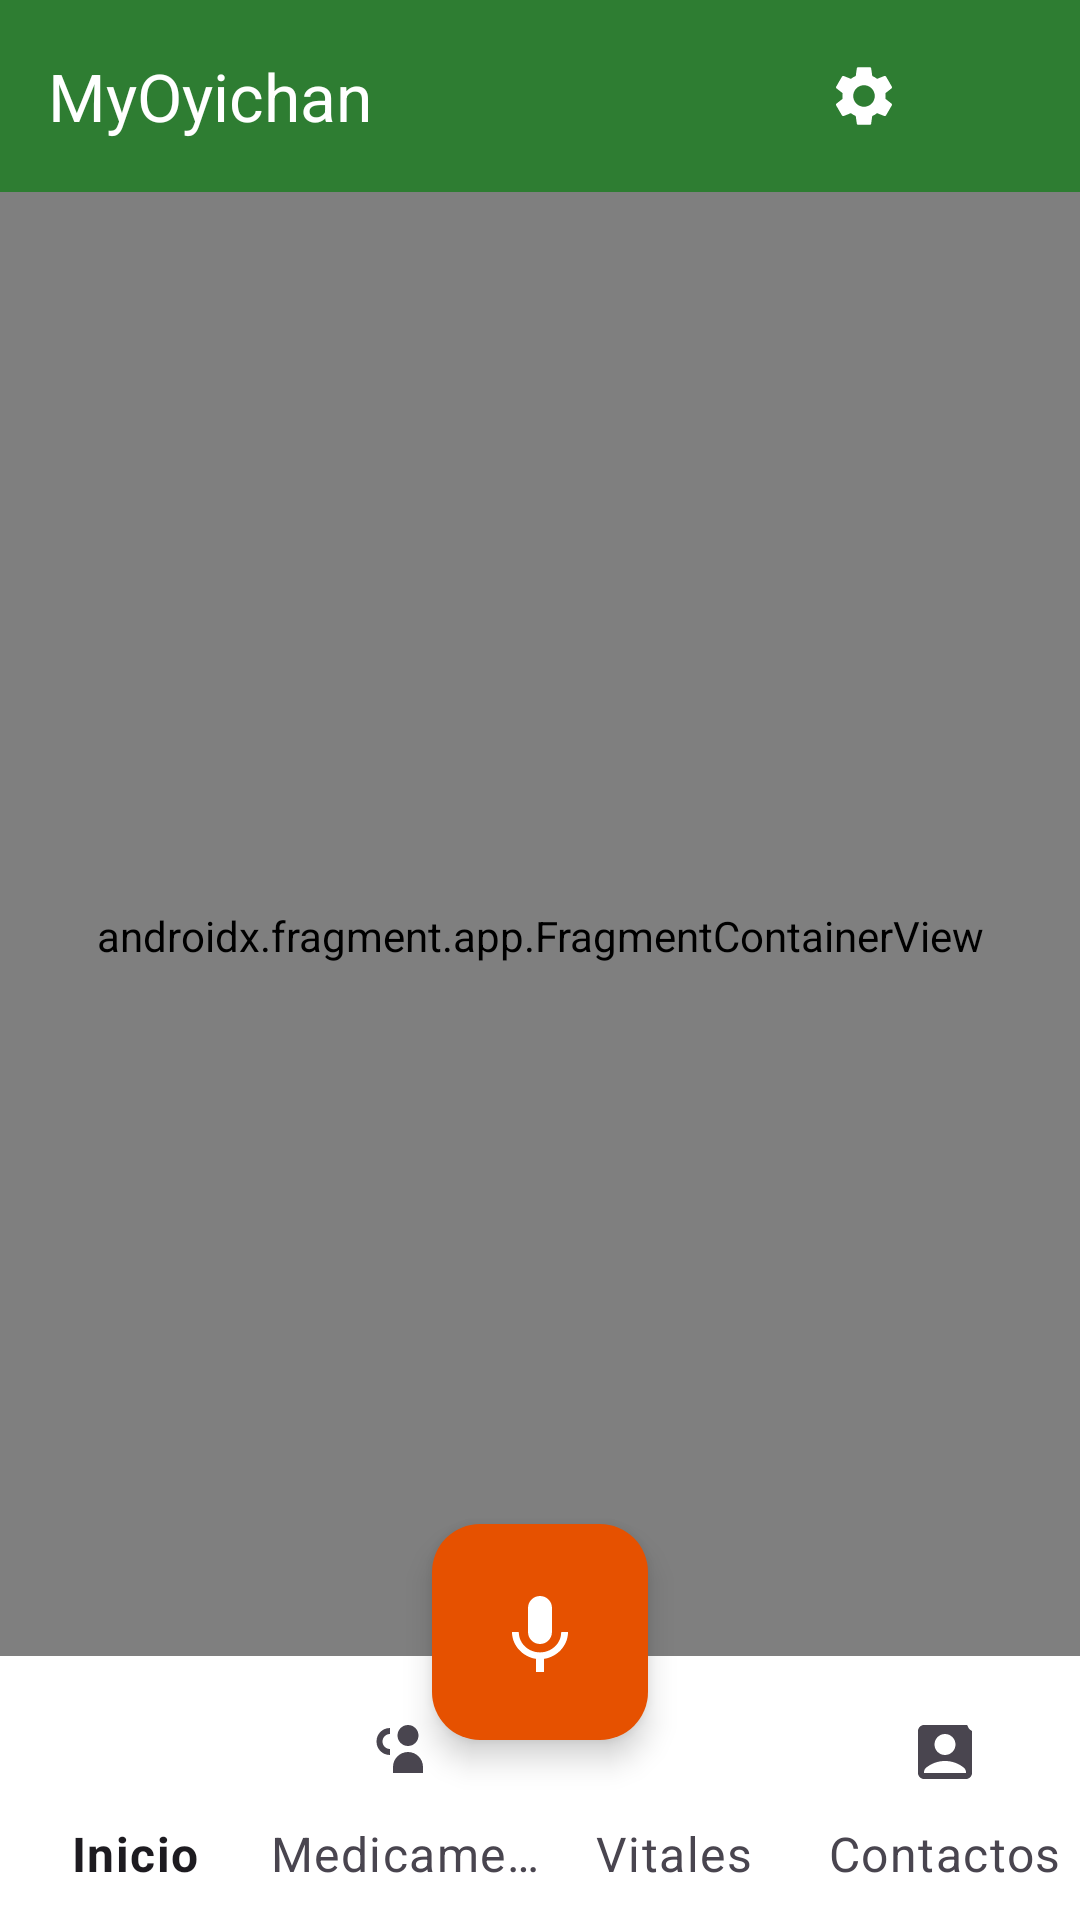

Screen size 1080*1920. Icon name, then its center in pixels as (x=x, y=y):
Asistente de voz: (x=540, y=1632)
Configuración: (x=864, y=96)
